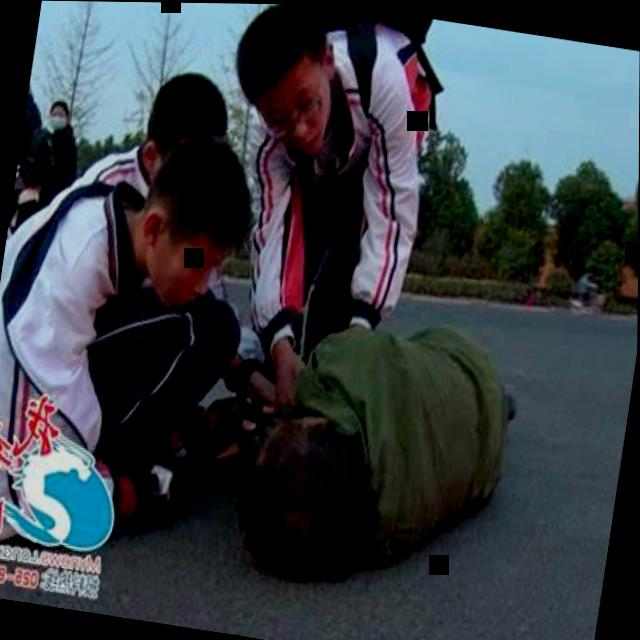Fall-Detected: (177, 255, 559, 616)
